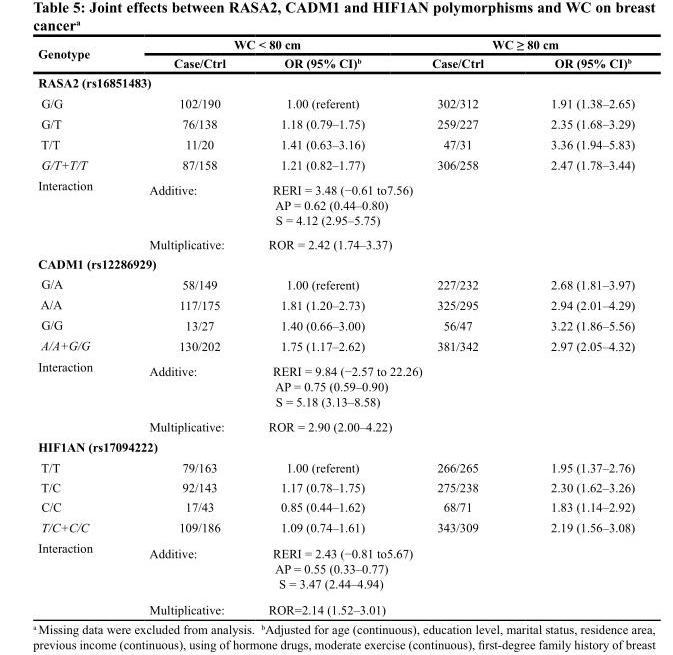table: (37, 37, 634, 616)
table column: (246, 37, 397, 616), (120, 37, 246, 616), (397, 37, 516, 616), (516, 37, 634, 616), (37, 37, 120, 616)
table column header: (37, 37, 634, 72)
table projected row header: (37, 72, 634, 92), (37, 253, 634, 273), (37, 436, 634, 456)
table row: (37, 174, 634, 197), (37, 413, 634, 436), (37, 537, 634, 560), (37, 231, 634, 253), (37, 356, 634, 378), (37, 92, 634, 113), (37, 133, 634, 154), (37, 273, 634, 294), (37, 314, 634, 335), (37, 335, 634, 356), (37, 456, 634, 477), (37, 516, 634, 537), (37, 575, 634, 596), (37, 72, 634, 92), (37, 113, 634, 133), (37, 154, 634, 174), (37, 253, 634, 273), (37, 294, 634, 314), (37, 393, 634, 413), (37, 436, 634, 456), (37, 496, 634, 516), (37, 596, 634, 616), (37, 53, 634, 72), (37, 212, 634, 231), (37, 477, 634, 496), (37, 37, 634, 53), (37, 197, 634, 212), (37, 378, 634, 393), (37, 560, 634, 575)
table spanning cell: (246, 174, 634, 197), (246, 413, 634, 436), (246, 537, 634, 560), (246, 231, 634, 253), (246, 356, 634, 378), (246, 575, 634, 596), (246, 393, 634, 413), (246, 596, 634, 616), (246, 212, 634, 231), (37, 356, 120, 436), (37, 174, 120, 253), (37, 537, 120, 616), (246, 197, 634, 212), (246, 378, 634, 393), (246, 560, 634, 575), (120, 37, 397, 53), (397, 37, 634, 53), (37, 37, 120, 72)
